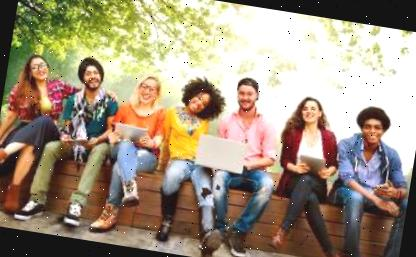person: (195, 70, 295, 257), (140, 63, 234, 252), (34, 44, 126, 227), (254, 86, 350, 257), (319, 98, 416, 257), (93, 66, 176, 242), (0, 45, 73, 215)
